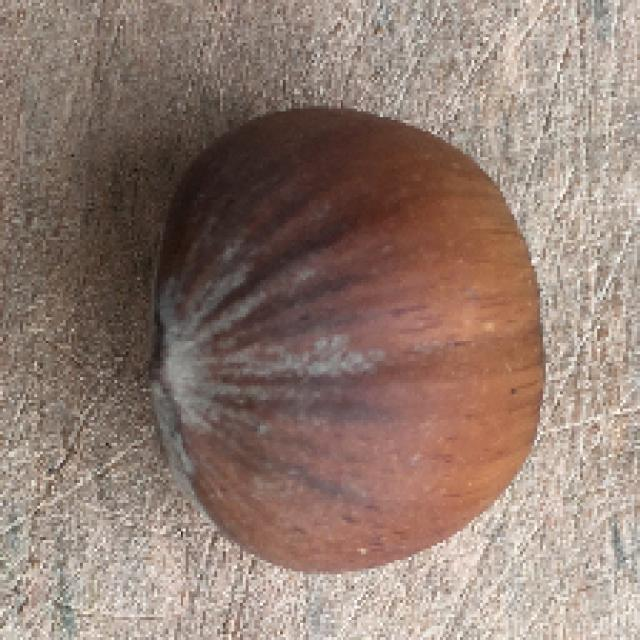qualityHazelnut: (154, 108, 549, 573)
